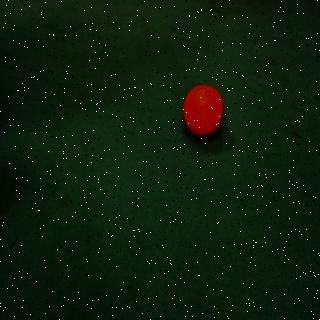orange: (181, 81, 227, 145)
